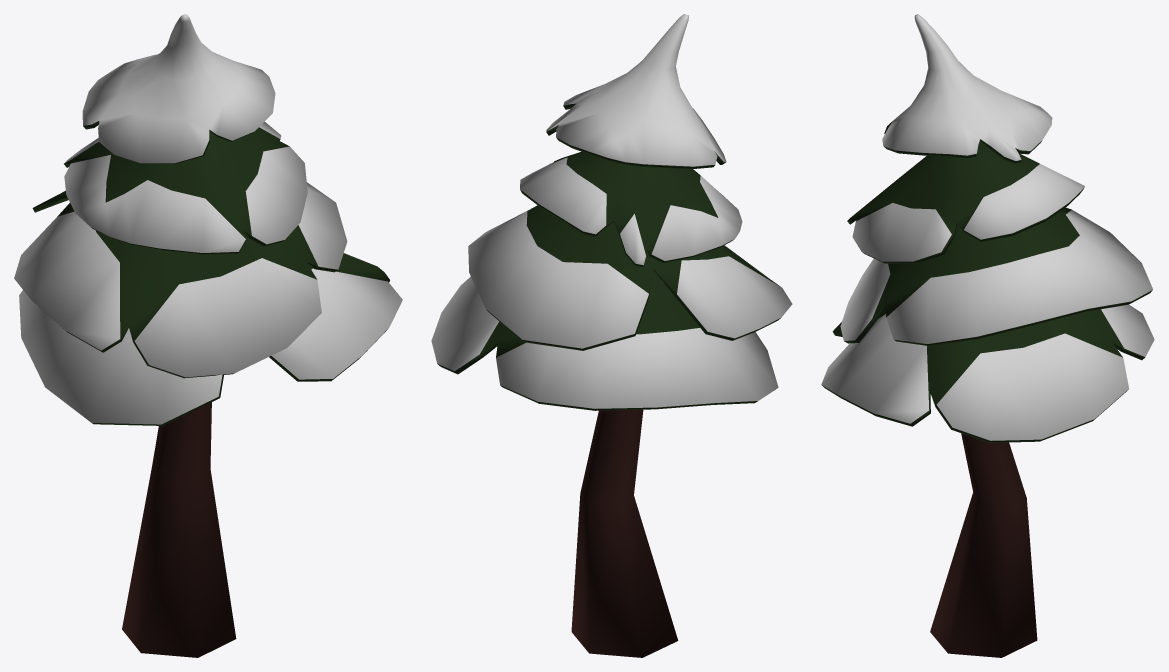
The model's file is PineTree_Snow_5.fbx.
The picture shows the model from 3 angles, left to right: view 1: azimuth 30°, elevation 25°; view 2: azimuth 150°, elevation 25°; view 3: azimuth 270°, elevation 25°; orthographic projection. The views are drawn at different scales.
Visible parts, largest first — view 1: PineTree_Snow_5; view 2: PineTree_Snow_5; view 3: PineTree_Snow_5.
Part boxes in pixels (x1,y1,x2,y2): PineTree_Snow_5: [14, 14, 402, 657]; PineTree_Snow_5: [431, 14, 792, 657]; PineTree_Snow_5: [821, 14, 1154, 657].
Size of the model in its own units: 538 by 489 by 985.
